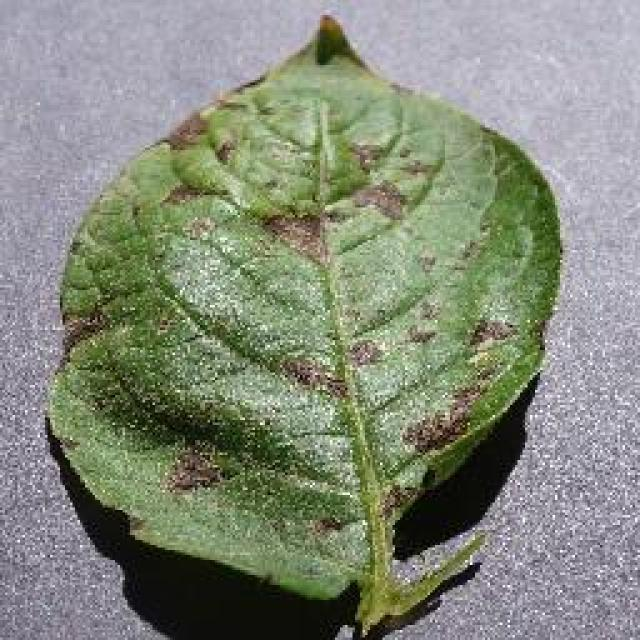Pot_Early_blight: (176, 108, 445, 268), (286, 277, 520, 453), (162, 432, 234, 516), (54, 290, 121, 364)
